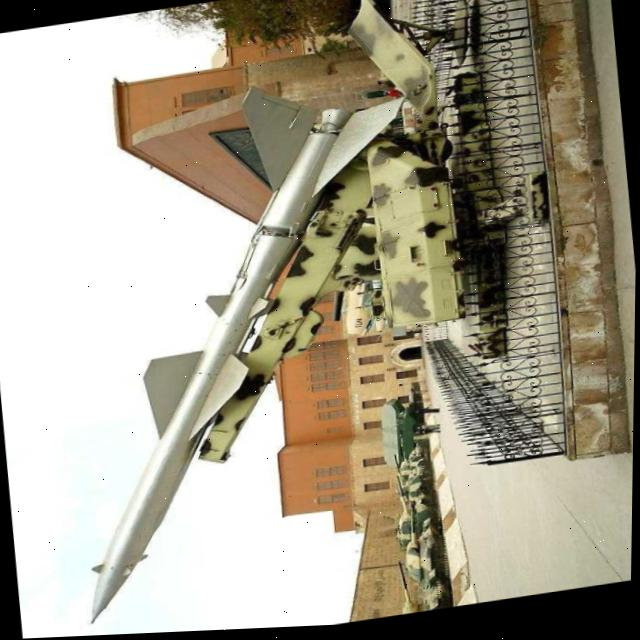missile: (29, 58, 448, 632)
